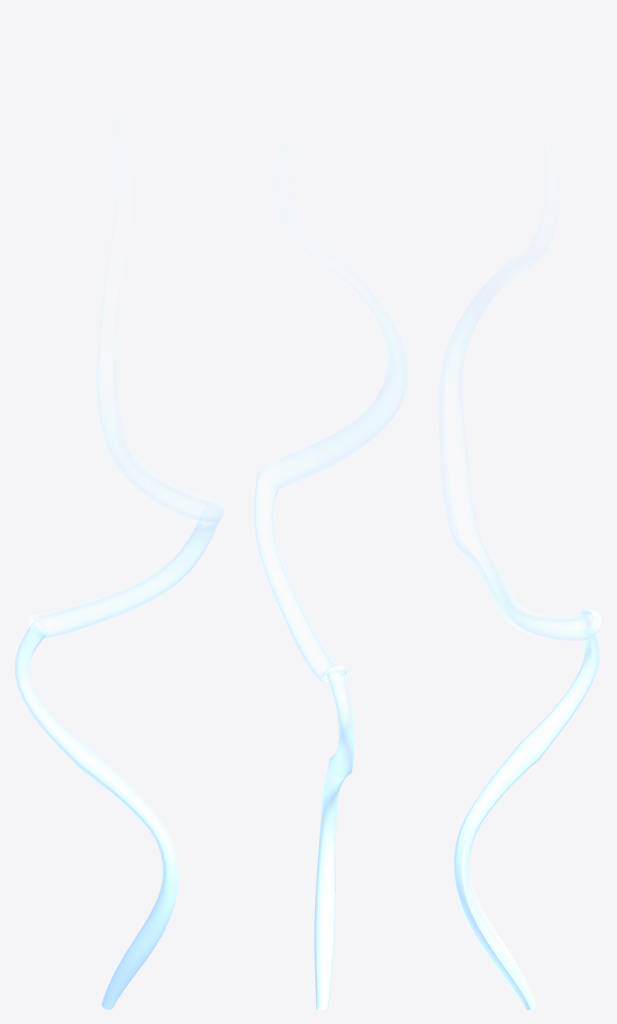
Rendered from strand_c_scenic.glb.
3 renders of one model, left to right at view 1: azimuth 30°, elevation 25°; view 2: azimuth 150°, elevation 25°; view 3: azimuth 270°, elevation 25°, orthographic.
Size of the model in its own units: 1.42 by 9.03 by 1.36.
